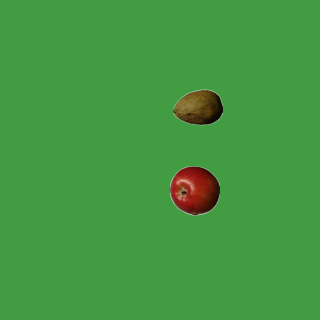Apple Braeburn: (169, 165, 219, 215)
Papaya: (172, 82, 222, 132)
